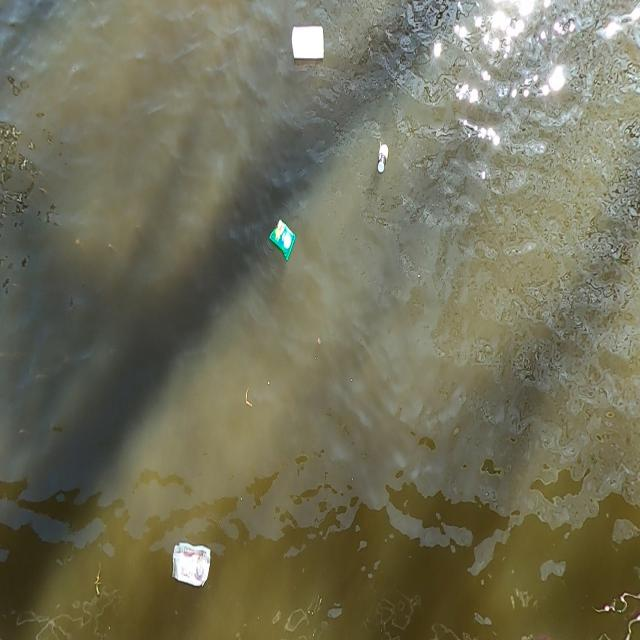Autre plastique: (291, 22, 326, 67)
Bouteille plastique: (376, 142, 391, 178)
